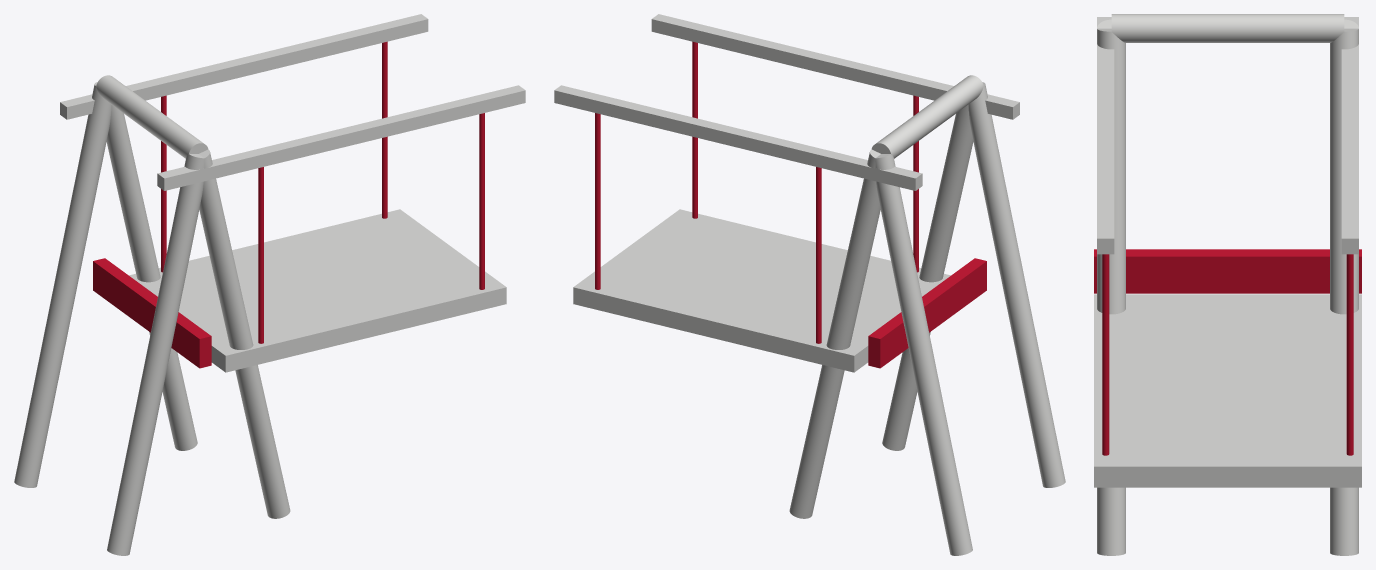
The model's file is c07-bridge-dutch-lift.glb.
The picture shows the model from 3 angles, left to right: view 1: azimuth 30°, elevation 25°; view 2: azimuth 150°, elevation 25°; view 3: azimuth 270°, elevation 25°; orthographic projection. The views are drawn at different scales.
Parts seen in each view (by area): view 1: part7, part2, part0, part1, part5, part6, part3, part12, part4, part10, part8, part11 (+1 smaller); view 2: part7, part0, part2, part3, part6, part5, part1, part12, part4, part11, part9, part10 (+1 smaller); view 3: part7, part12, part4, part1, part3, part5, part6, part10, part11.
Boxes of the visible parts, left/top/right/bottom form: part7: left=129, top=209, right=506, bottom=372; part2: left=14, top=82, right=111, bottom=487; part0: left=107, top=154, right=204, bottom=555; part1: left=199, top=149, right=290, bottom=518; part5: left=157, top=85, right=525, bottom=190; part6: left=60, top=14, right=428, bottom=119; part3: left=106, top=104, right=197, bottom=450; part12: left=93, top=258, right=211, bottom=368; part4: left=96, top=75, right=208, bottom=158; part10: left=479, top=113, right=484, bottom=289; part8: left=258, top=167, right=263, bottom=343; part11: left=382, top=41, right=387, bottom=218; part7: left=573, top=209, right=950, bottom=372; part0: left=968, top=82, right=1065, bottom=487; part2: left=875, top=154, right=972, bottom=555; part3: left=789, top=149, right=880, bottom=518; part6: left=554, top=85, right=922, bottom=190; part5: left=651, top=14, right=1019, bottom=119; part1: left=882, top=104, right=973, bottom=450; part12: left=868, top=258, right=986, bottom=368; part4: left=871, top=75, right=983, bottom=158; part11: left=595, top=113, right=600, bottom=289; part9: left=816, top=167, right=821, bottom=343; part10: left=692, top=41, right=697, bottom=218; part7: left=1094, top=294, right=1361, bottom=487; part12: left=1094, top=249, right=1361, bottom=293; part4: left=1111, top=14, right=1344, bottom=42; part1: left=1097, top=28, right=1125, bottom=555; part3: left=1330, top=28, right=1358, bottom=555; part5: left=1097, top=17, right=1114, bottom=254; part6: left=1341, top=17, right=1358, bottom=254; part10: left=1102, top=254, right=1109, bottom=455; part11: left=1346, top=254, right=1353, bottom=455.
Size of the model in its own units: 10244 by 9304 by 4600.
